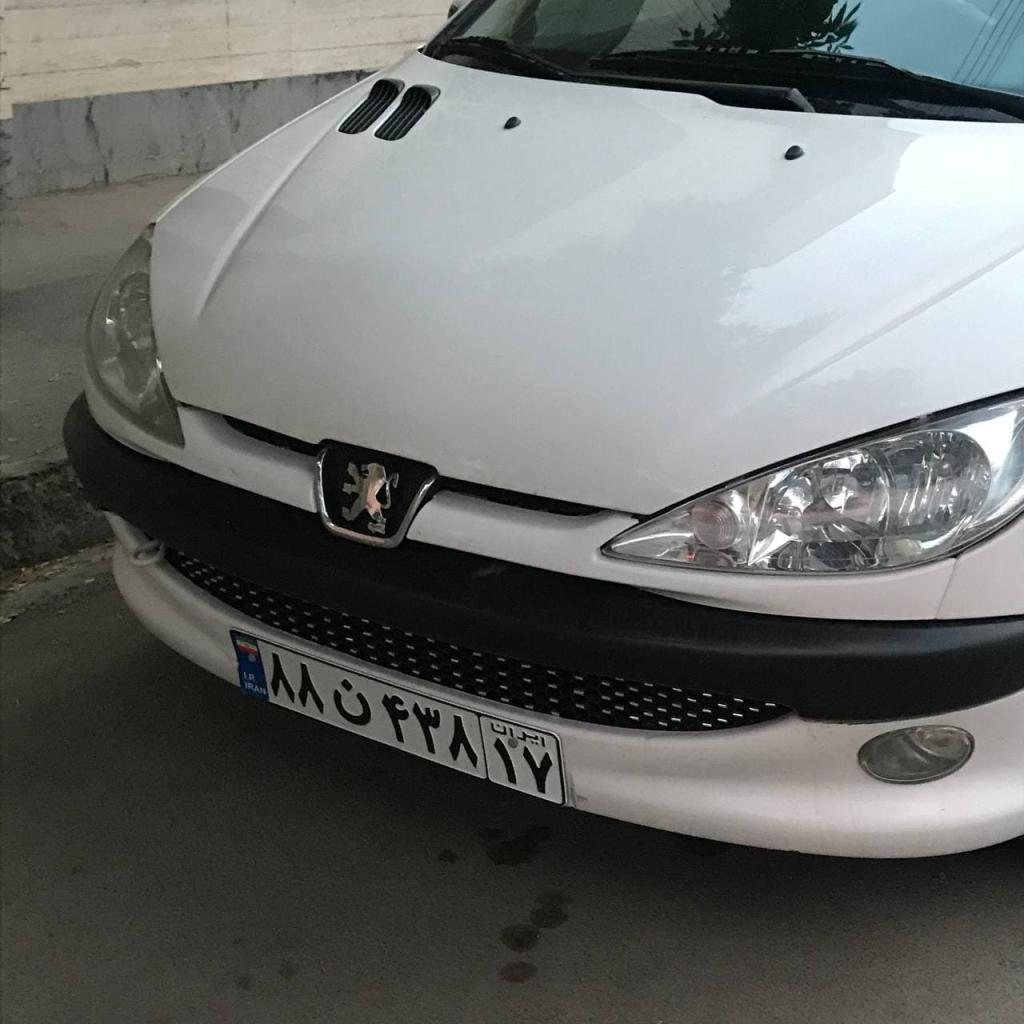Plates: (228, 627, 563, 804)
